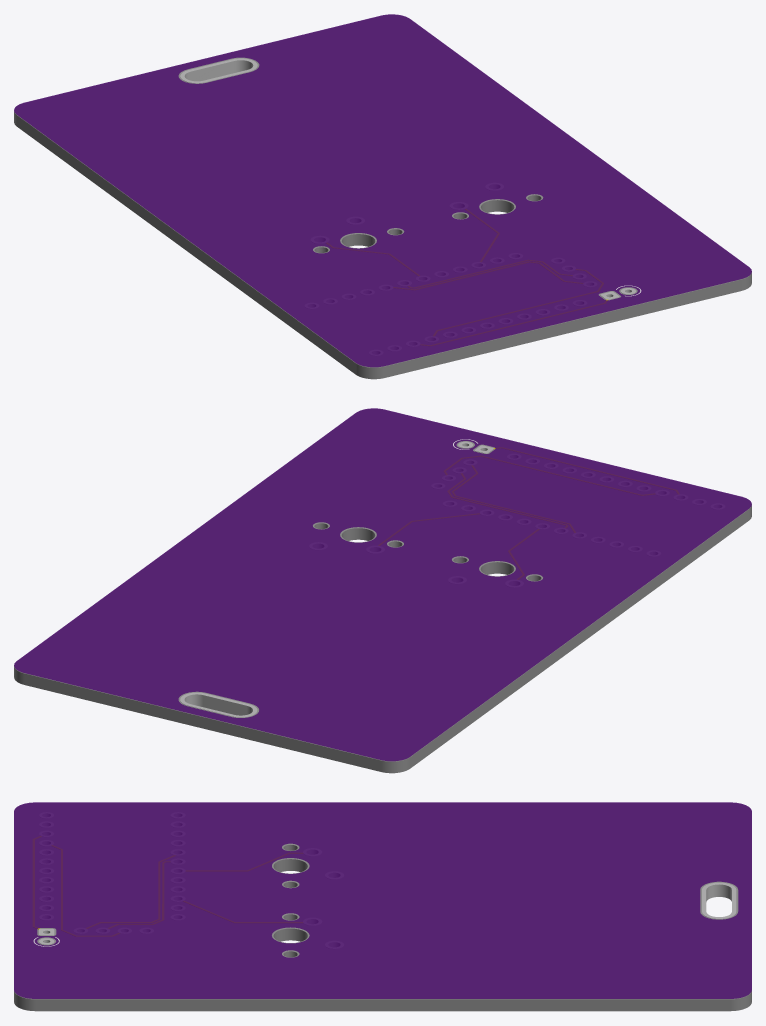
The model's file is badge.glb.
The picture shows the model from 3 angles, top to bottom: view 1: azimuth 30°, elevation 25°; view 2: azimuth 150°, elevation 25°; view 3: azimuth 270°, elevation 25°; orthographic projection. The views are drawn at different scales.
Visible parts, largest first — view 1: =>0115, meetup_badge_2switch_PCB_4, meetup_badge_2switch_PCB_8, meetup_badge_2switch_PCB_7; view 2: =>0115, meetup_badge_2switch_PCB_4, meetup_badge_2switch_PCB_1, meetup_badge_2switch_PCB_7; view 3: =>0115, meetup_badge_2switch_PCB_4, meetup_badge_2switch_PCB_2, meetup_badge_2switch_pad_4, meetup_badge_2switch_PCB_46, meetup_badge_2switch_PCB_27.
Boxes of the visible parts, x1=… form: =>0115: x1=14, y1=14, x2=751, y2=367; meetup_badge_2switch_PCB_4: x1=14, y1=15, x2=751, y2=367; meetup_badge_2switch_PCB_8: x1=384, y1=279, x2=741, y2=377; meetup_badge_2switch_PCB_7: x1=17, y1=115, x2=355, y2=374; =>0115: x1=14, y1=408, x2=751, y2=761; meetup_badge_2switch_PCB_4: x1=14, y1=409, x2=751, y2=761; meetup_badge_2switch_PCB_1: x1=24, y1=673, x2=381, y2=771; meetup_badge_2switch_PCB_7: x1=410, y1=509, x2=748, y2=768; =>0115: x1=14, y1=802, x2=751, y2=998; meetup_badge_2switch_PCB_4: x1=14, y1=803, x2=751, y2=999; meetup_badge_2switch_PCB_2: x1=35, y1=999, x2=730, y2=1011; meetup_badge_2switch_pad_4: x1=702, y1=882, x2=736, y2=918; meetup_badge_2switch_PCB_46: x1=273, y1=928, x2=307, y2=941; meetup_badge_2switch_PCB_27: x1=273, y1=859, x2=307, y2=872.
Size of the model in its own units: 0.0539 by 0.00163 by 0.0855.
